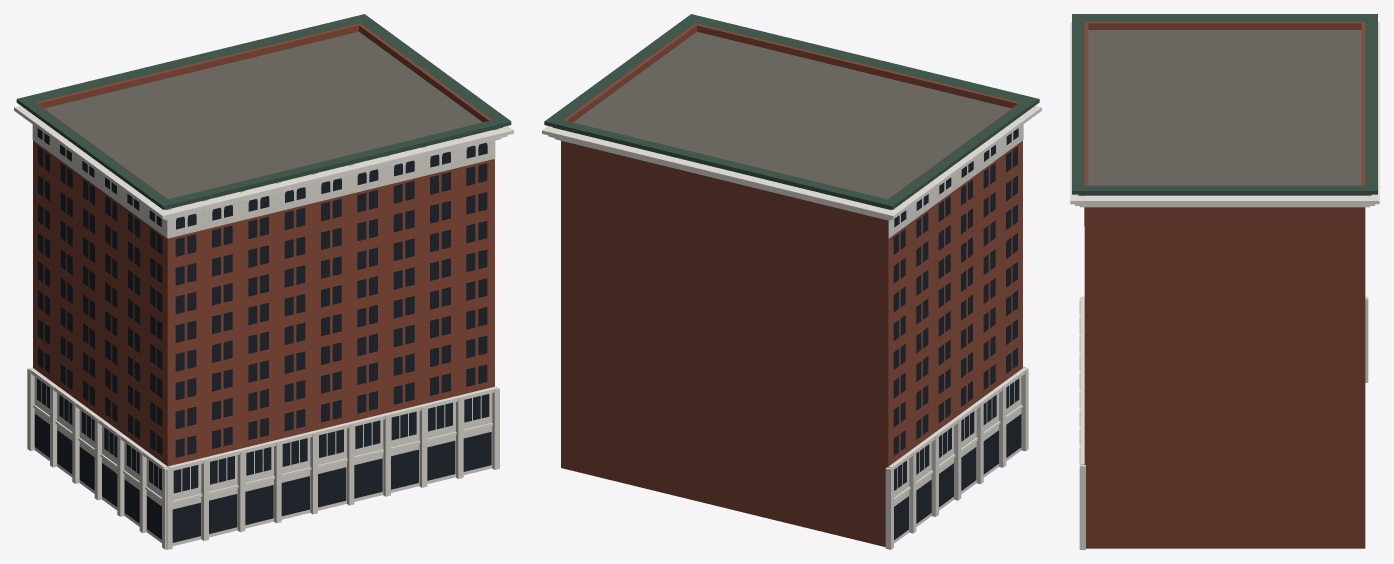
File: lafayette-hotel.glb
3 renders of one model, left to right at view 1: azimuth 30°, elevation 25°; view 2: azimuth 150°, elevation 25°; view 3: azimuth 270°, elevation 25°, orthographic. The views are drawn at different scales.
Visible parts, largest first — view 1: lafayette_brick, lafayette_glass, lafayette_roof, lafayette_stone, lafayette_copper, lafayette_trim; view 2: lafayette_brick2, lafayette_roof, lafayette_brick, lafayette_glass, lafayette_copper, lafayette_stone, lafayette_trim; view 3: lafayette_brick2, lafayette_roof, lafayette_copper, lafayette_trim, lafayette_brick, lafayette_stone.
Part boxes in pixels (x1,y1,x2,y2): lafayette_brick: (33, 23, 494, 466); lafayette_glass: (34, 128, 491, 542); lafayette_roof: (44, 31, 482, 198); lafayette_stone: (27, 124, 499, 549); lafayette_copper: (16, 14, 511, 209); lafayette_trim: (14, 105, 513, 503); lafayette_brick2: (561, 141, 888, 546); lafayette_roof: (573, 31, 1011, 199); lafayette_brick: (563, 23, 1022, 466); lafayette_glass: (893, 128, 1021, 539); lafayette_copper: (544, 14, 1039, 209); lafayette_stone: (885, 124, 1028, 549); lafayette_trim: (542, 105, 1041, 501); lafayette_brick2: (1084, 207, 1365, 548); lafayette_roof: (1088, 30, 1361, 185); lafayette_copper: (1072, 14, 1377, 195); lafayette_trim: (1070, 22, 1379, 464); lafayette_brick: (1084, 21, 1365, 185); lafayette_stone: (1079, 195, 1368, 549).
Bounding box in the file's own units: 46.7 × 44.25 × 34.2.
